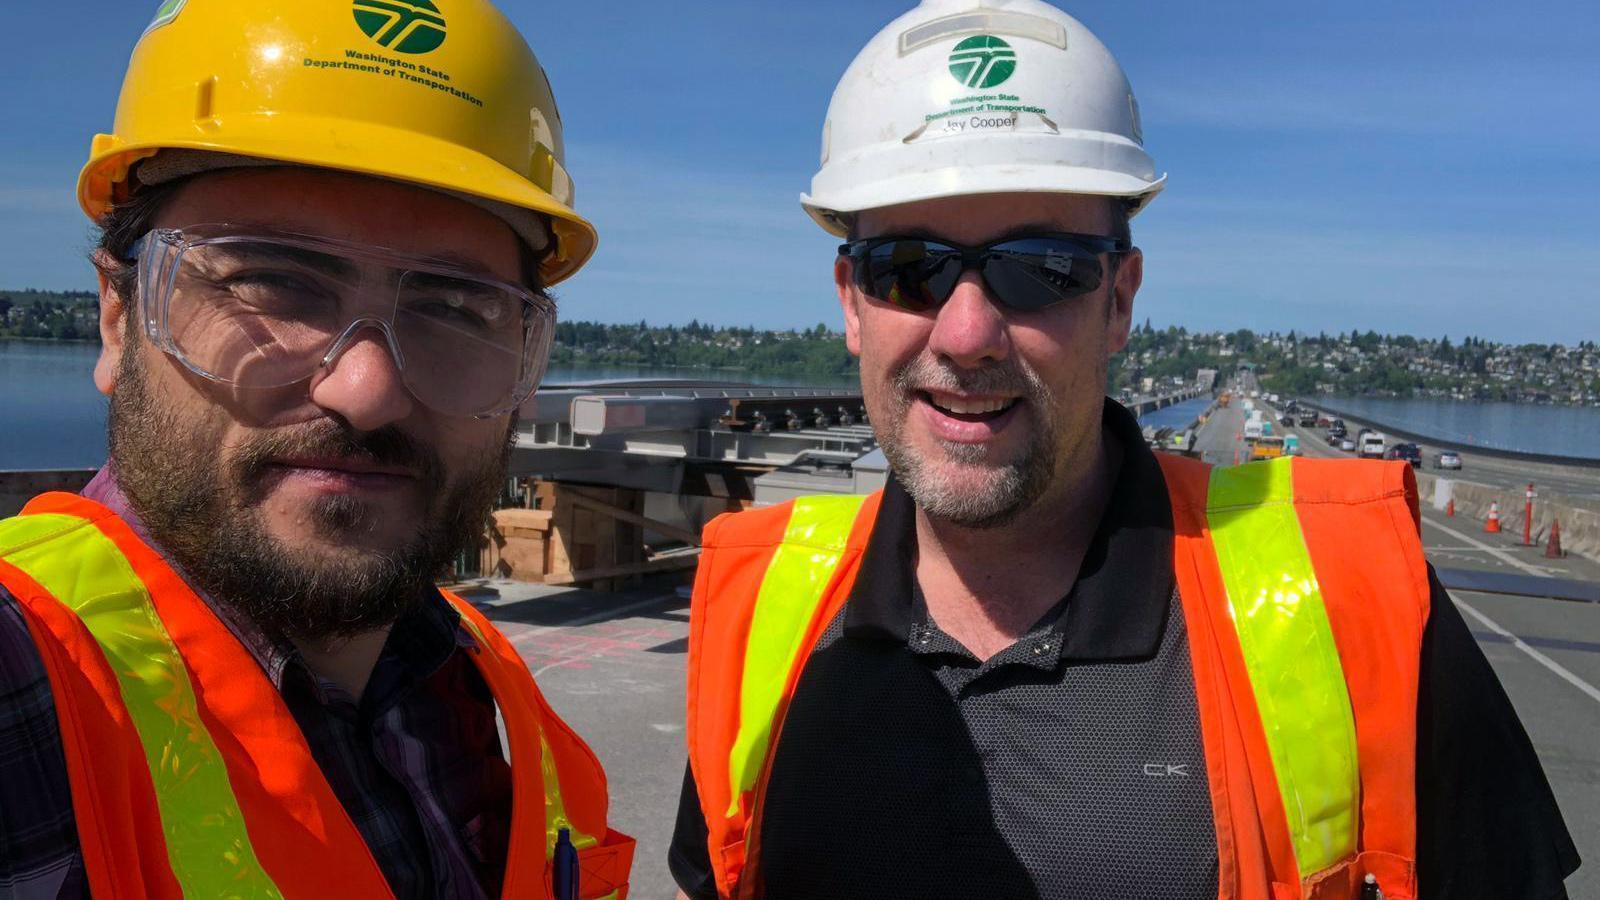helmet: (73, 0, 600, 282), (799, 0, 1168, 233)
